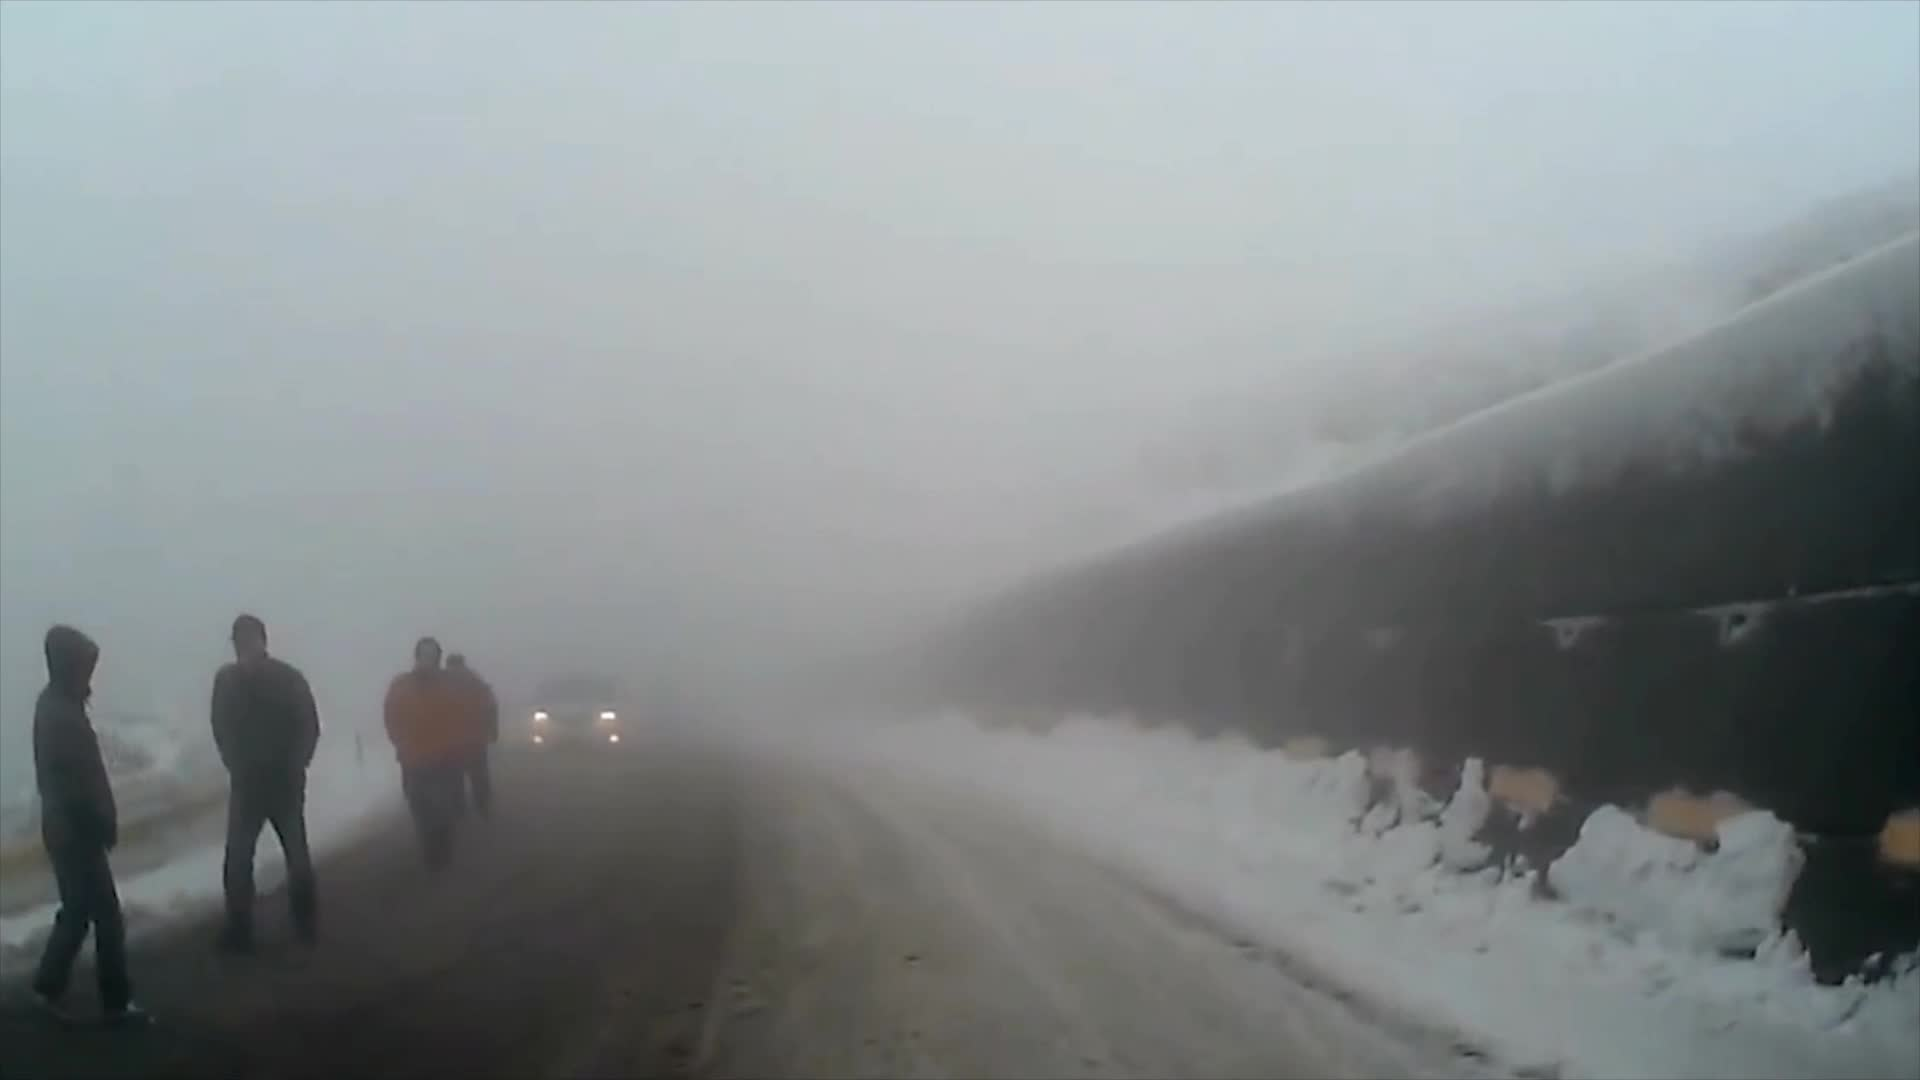pedestrian: (29, 625, 148, 1028), (209, 615, 324, 959), (382, 636, 478, 869)
vehicle: (531, 687, 630, 773)
